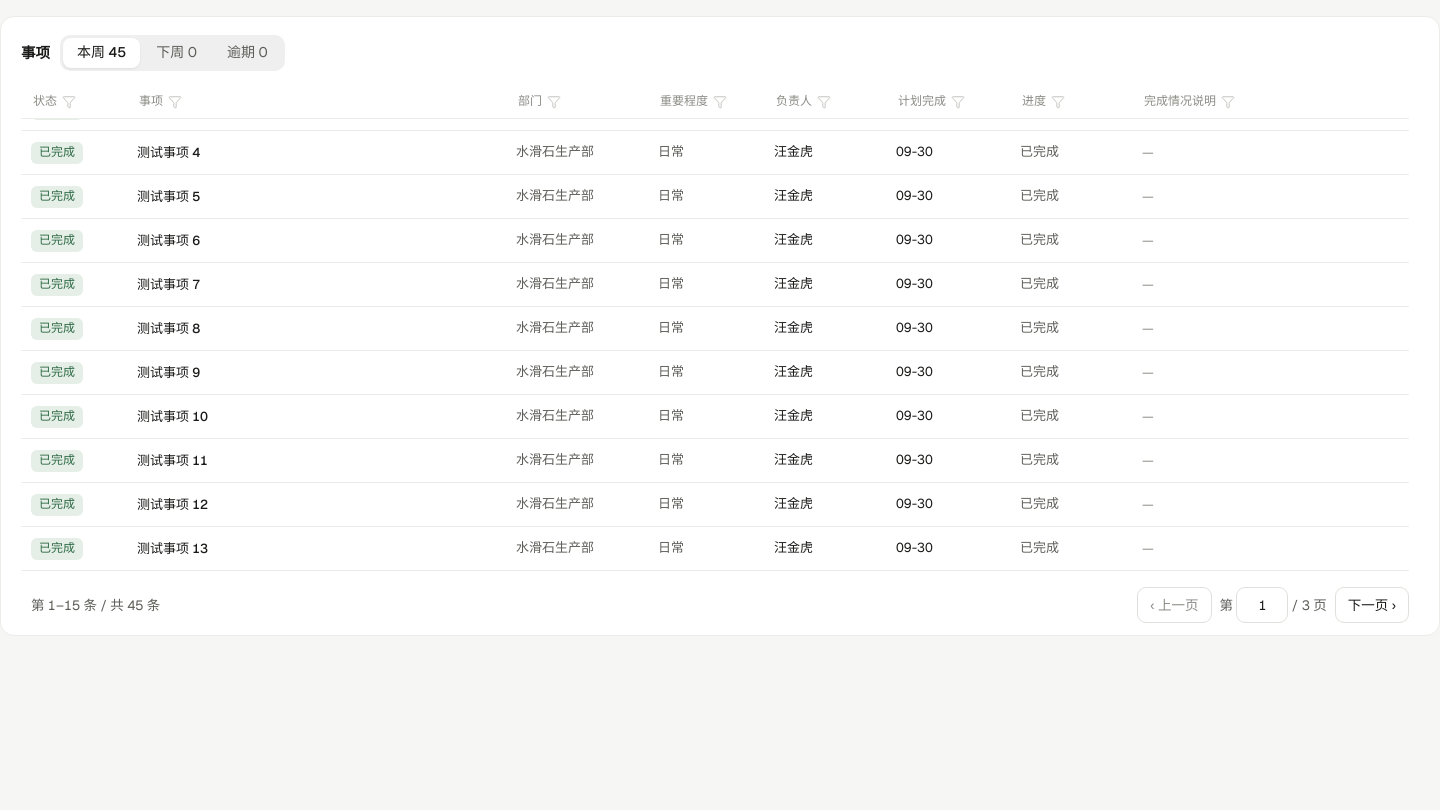
Scenario: 计划与完成事项分页 › 本周事项每页最多 15 条，翻页不离开当前页面
This screenshot has width=1440, height=810.
(page scrolled)
Expected: the text "第 1–15 条 / 共 45 条" is shown, [31,594,160,615]
Expected: the text "测试事项 16" is not shown
Click the button "下一页 ›" at (1372, 605), box [1335,587,1409,623]
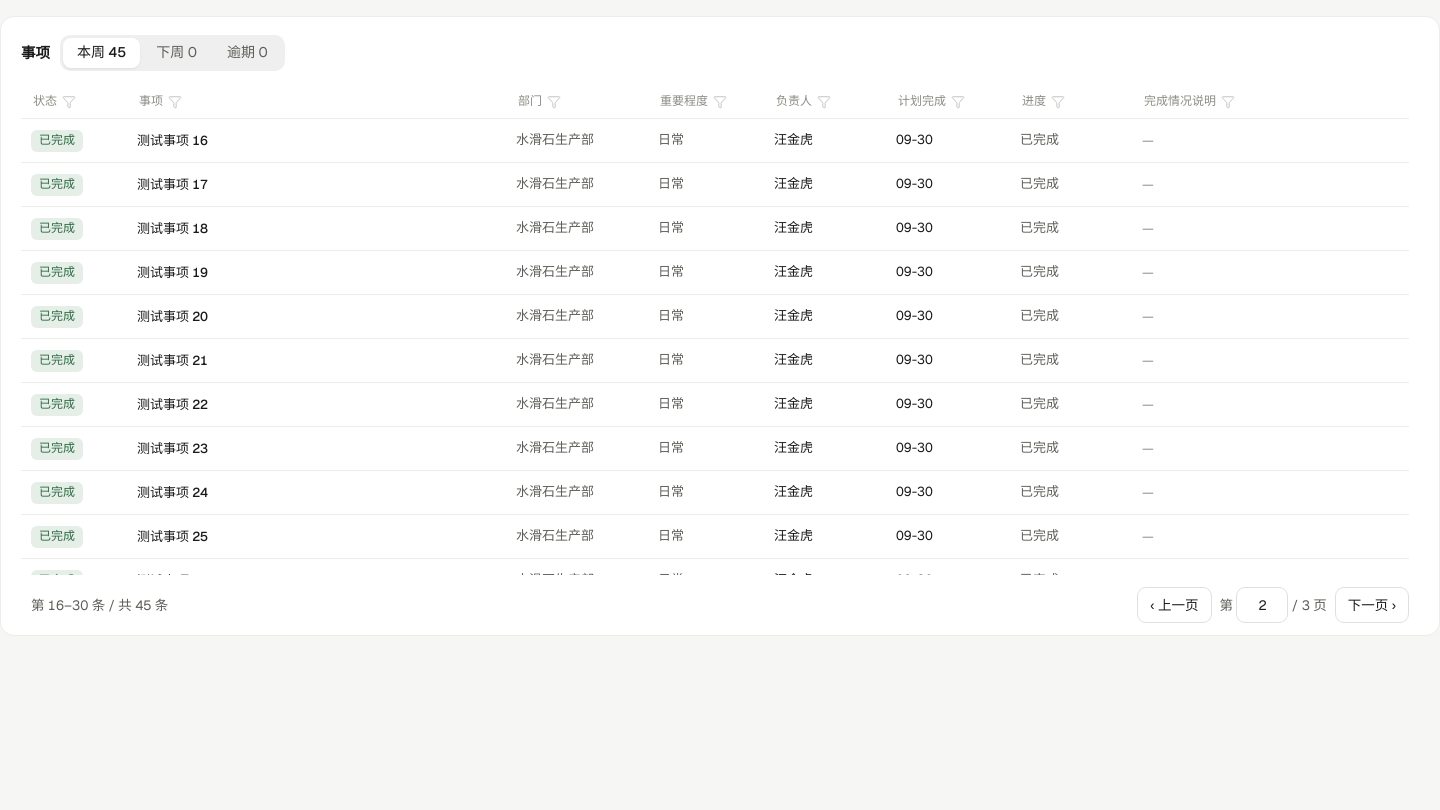
Expected: the text "测试事项 15" is not shown
Result: the text "第 16–30 条 / 共 45 条" is shown at [31,594,168,615]
Result: the text "测试事项 16" is shown at [137,132,208,149]
